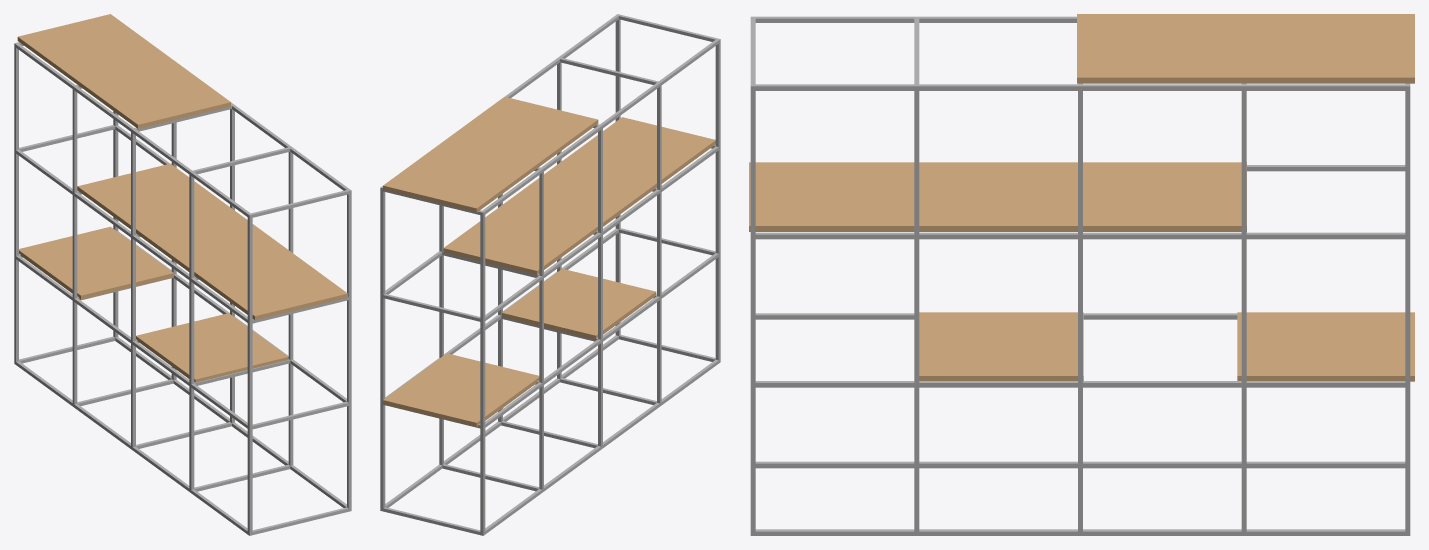
File: Bookcase17.fbx
3 views of the same model, side by side, from view 1: azimuth 30°, elevation 25°; view 2: azimuth 150°, elevation 25°; view 3: azimuth 270°, elevation 25° (orthographic). The views are drawn at different scales.
Parts seen in each view (by area): view 1: Bookcase17, Cube.035, Cube.004, Cube.034, Cube.001; view 2: Bookcase17, Cube.035, Cube.004, Cube.034, Cube.001; view 3: Bookcase17, Cube.035, Cube.004, Cube.034, Cube.001.
Boxes of the visible parts, <box> form: Bookcase17: <box>14,42,351,535</box>; Cube.035: <box>77,163,347,320</box>; Cube.004: <box>17,14,230,128</box>; Cube.034: <box>19,226,173,299</box>; Cube.001: <box>136,313,288,382</box>; Bookcase17: <box>380,14,720,535</box>; Cube.035: <box>443,117,715,274</box>; Cube.004: <box>383,96,598,212</box>; Cube.034: <box>383,353,539,426</box>; Cube.001: <box>502,268,656,339</box>; Bookcase17: <box>750,16,1410,535</box>; Cube.035: <box>749,162,1246,231</box>; Cube.004: <box>1077,14,1414,83</box>; Cube.034: <box>1237,312,1414,381</box>; Cube.001: <box>919,312,1083,380</box>.
Size of the model in its own units: 0.5102 by 2.05 by 1.55.
